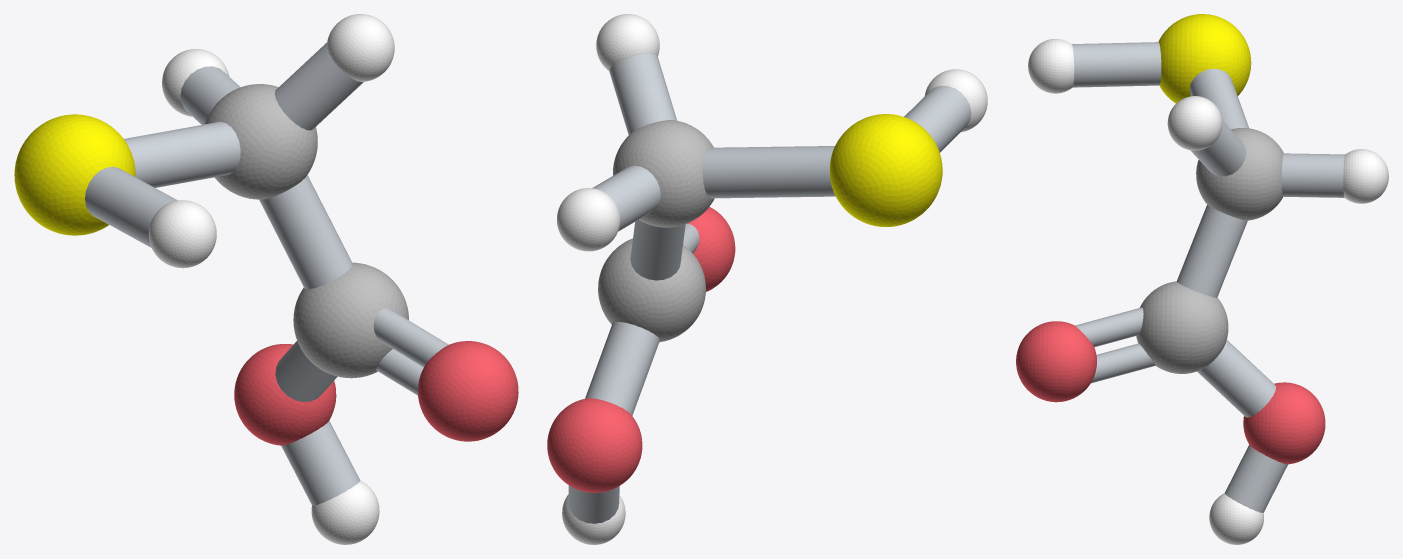
Rendered from Sulfanylacetic.glb.
3 views of the same model, side by side, from view 1: azimuth 30°, elevation 25°; view 2: azimuth 150°, elevation 25°; view 3: azimuth 270°, elevation 25° (orthographic). The views are drawn at different scales.
Size of the model in its own units: 3.38 by 4.43 by 3.4.
